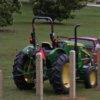Tractor: (10, 23, 100, 99)
